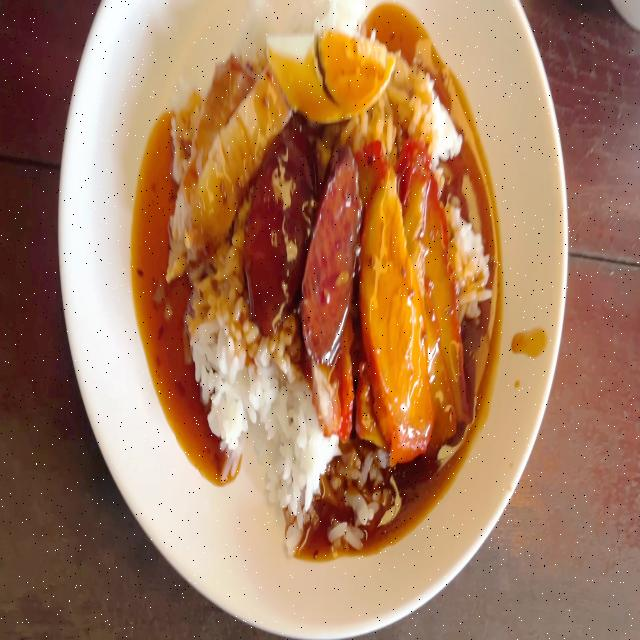boiled_egg: (260, 22, 392, 116)
chainese_sausage: (252, 128, 362, 340), (248, 120, 324, 319), (306, 151, 362, 343)
crispy_pork: (166, 48, 281, 274), (177, 77, 285, 268), (171, 66, 238, 238)
red_pork: (360, 158, 457, 440), (360, 157, 426, 448), (402, 149, 467, 436), (309, 354, 352, 434)
red_pork_and_crispy_pork: (174, 0, 491, 531)
rice: (191, 262, 243, 452), (400, 72, 458, 160), (236, 330, 296, 412), (285, 383, 314, 509)
